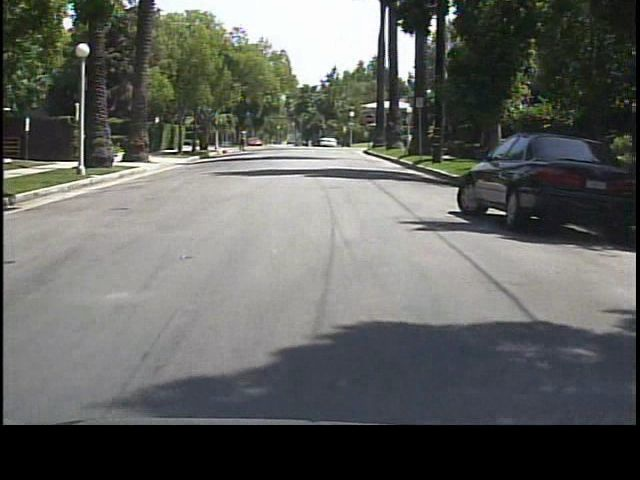person: (237, 127, 251, 157)
